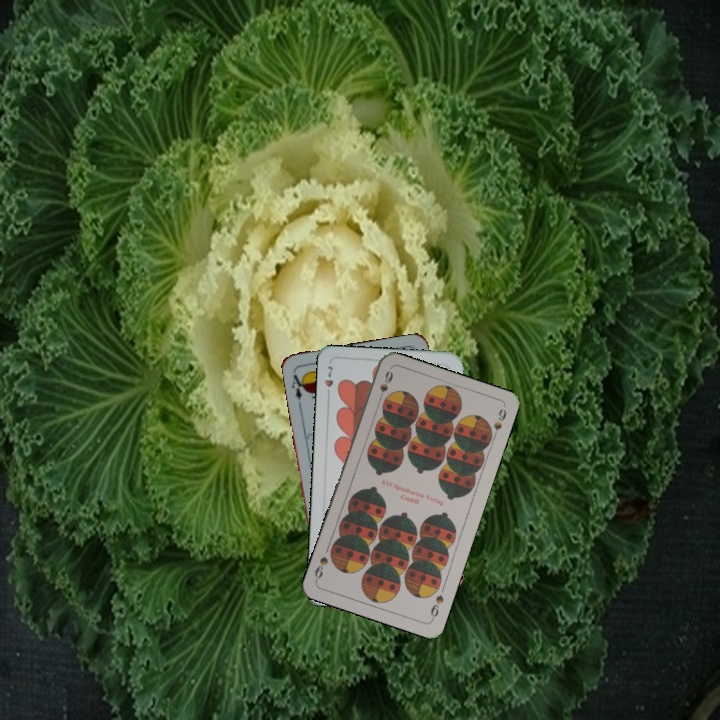EA: (288, 367, 308, 402)
H7: (321, 362, 336, 401)
S9: (374, 366, 396, 406), (426, 591, 446, 623)
